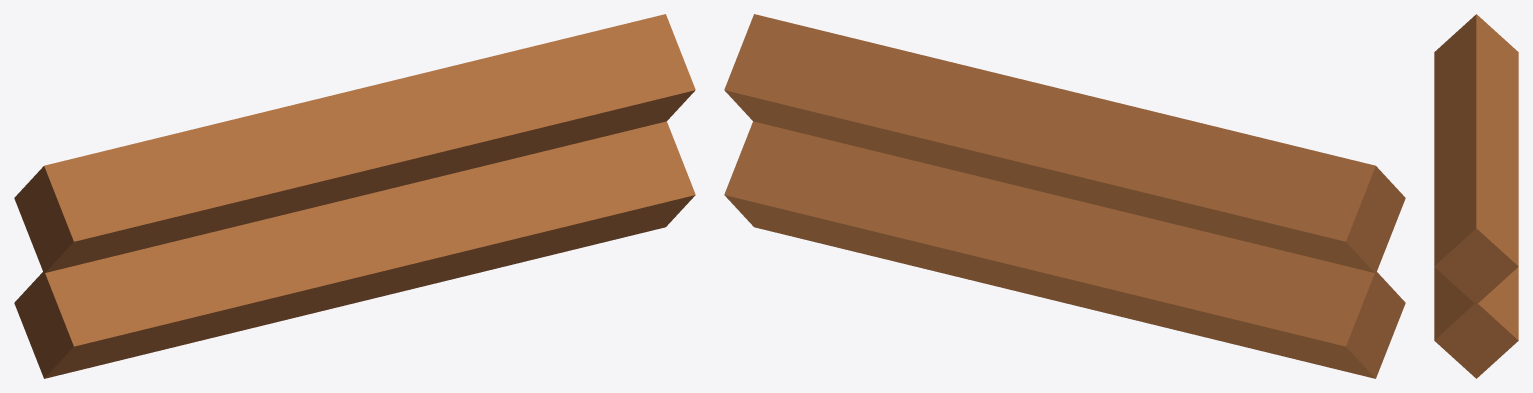
The picture shows the model from 3 angles, left to right: view 1: azimuth 30°, elevation 25°; view 2: azimuth 150°, elevation 25°; view 3: azimuth 270°, elevation 25°; orthographic projection. The views are drawn at different scales.
Parts seen in each view (by area): view 1: root_pal_woodWarm; view 2: root_pal_woodWarm; view 3: root_pal_woodWarm.
Boxes of the visible parts, left/top/right/bottom form: root_pal_woodWarm: left=14, top=14, right=695, bottom=378; root_pal_woodWarm: left=724, top=14, right=1405, bottom=378; root_pal_woodWarm: left=1434, top=14, right=1518, bottom=378.
Bounding box in the file's own units: 3.6 × 1.18 × 0.6.
